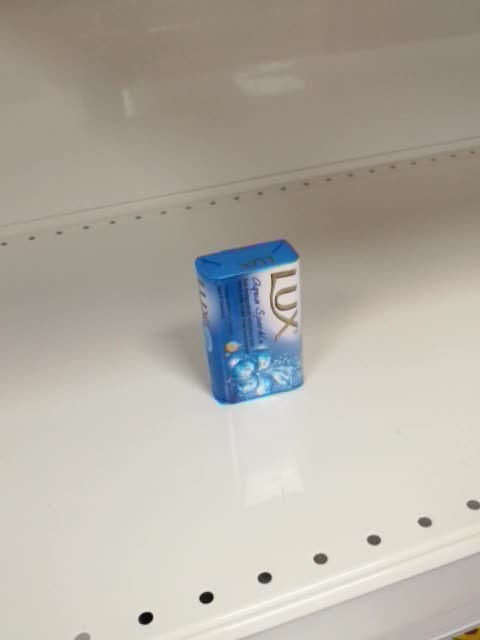soap: (194, 238, 307, 406)
